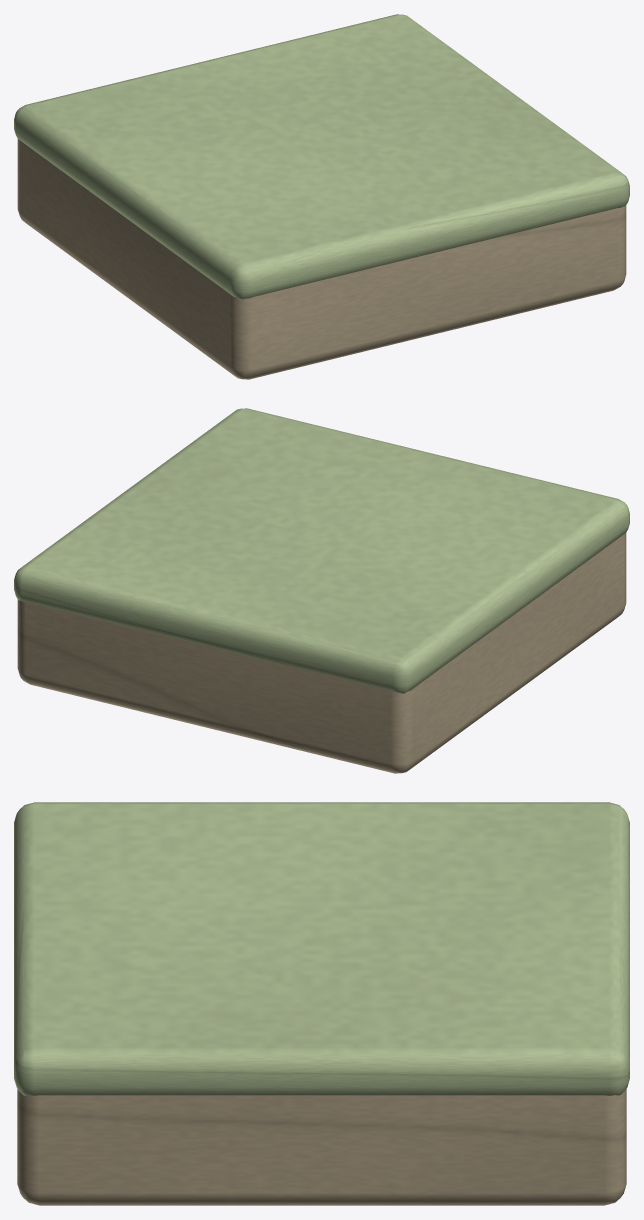
File: tile_garden_sage.glb
3 views of the same model, one above another, from view 1: azimuth 30°, elevation 25°; view 2: azimuth 150°, elevation 25°; view 3: azimuth 270°, elevation 25° (orthographic). The views are drawn at different scales.
Parts seen in each view (by area): view 1: tile_surface, tile_body; view 2: tile_surface, tile_body; view 3: tile_surface, tile_body.
Part boxes in pixels (x1=…): tile_surface: x1=14, y1=14, x2=629, y2=299; tile_body: x1=17, y1=139, x2=626, y2=379; tile_surface: x1=14, y1=408, x2=629, y2=693; tile_body: x1=17, y1=533, x2=626, y2=773; tile_surface: x1=14, y1=802, x2=629, y2=1095; tile_body: x1=17, y1=1089, x2=626, y2=1205.
Bounding box in the file's own units: 0.97 × 0.275 × 0.97.
2 materials, 2 textured.
